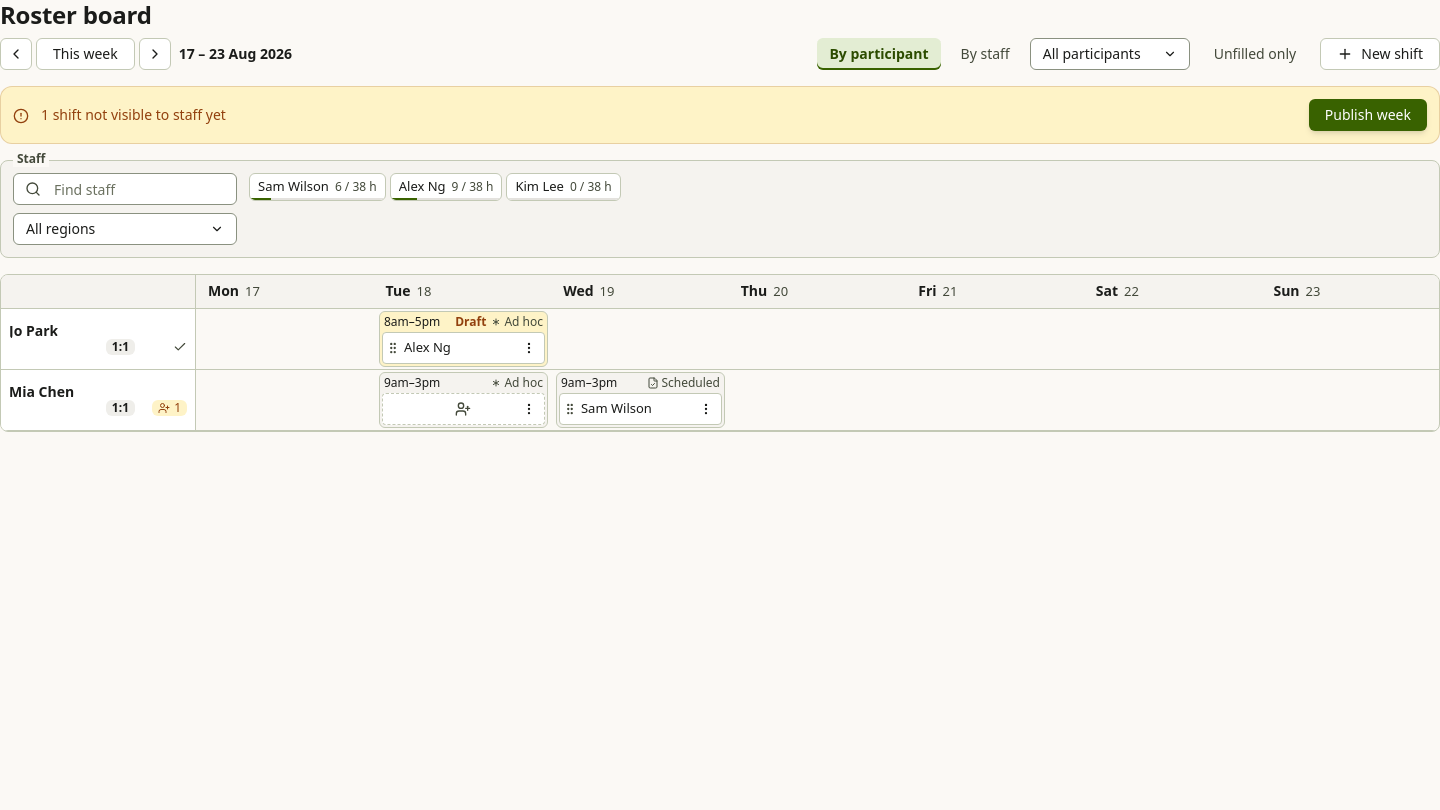
the board-changed 409 offers Refresh the board (real QueryClient) › offers Refresh the board on the code, whatever the sentence says (the copy was edited)
Expected: the element showing "9am–3pm Scheduled Sam Wilson" is shown, x1=556 y1=372 x2=725 y2=428
Click the button named "Assign someone to Tuesday 9am to 3pm for Mia".
click(450, 408)  # box x1=382 y1=392 x2=517 y2=424
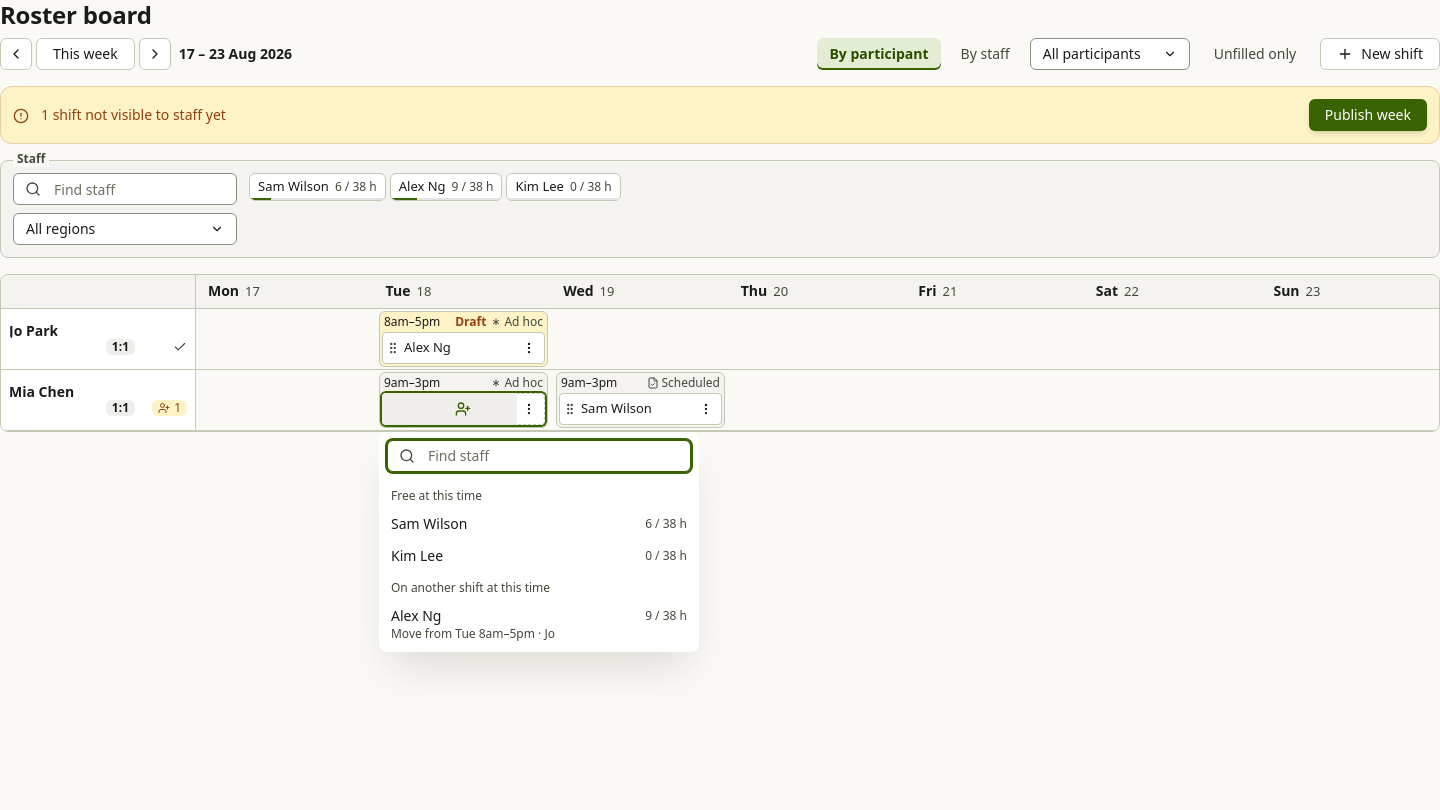
Click the option "Kim Lee 0 / 38 h".
click(417, 555)  # box x1=391 y1=546 x2=687 y2=564
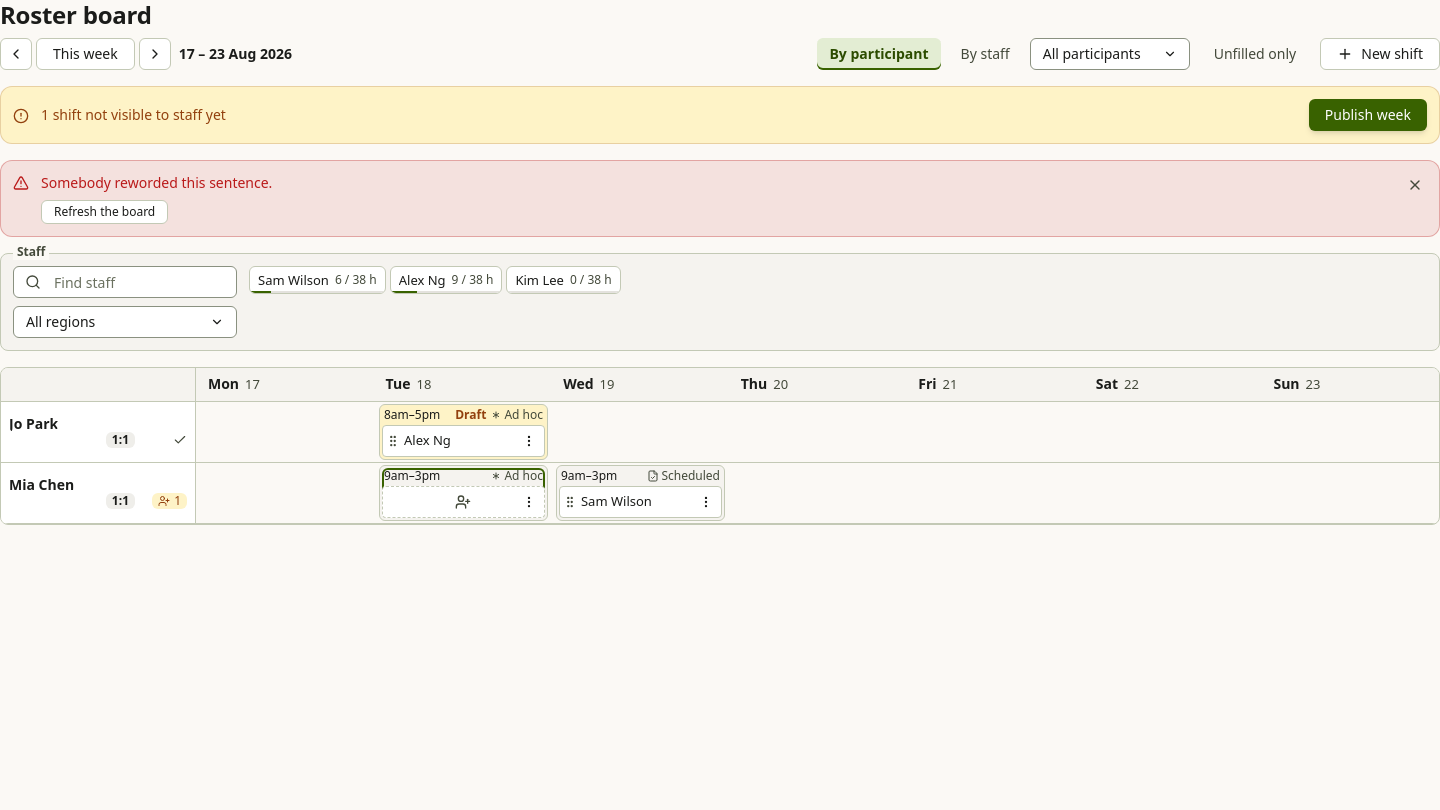
Expected: the text "Somebody reworded this sentence." is shown, x1=41 y1=173 x2=272 y2=192
Expected: the button "Refresh the board" is shown, x1=41 y1=200 x2=168 y2=224
